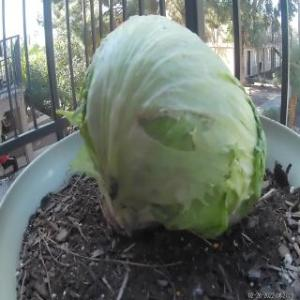cabbage: (77, 11, 268, 241)
